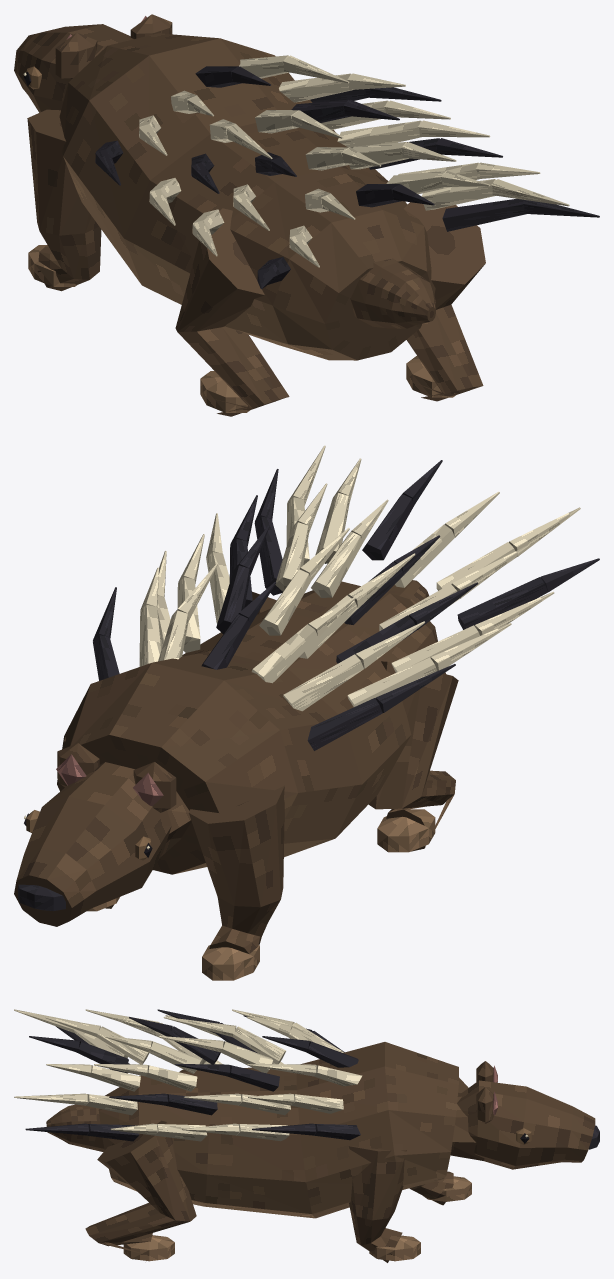
Rendered from mon_porcupine.glb.
The picture shows the model from 3 angles, top to bottom: view 1: azimuth 30°, elevation 25°; view 2: azimuth 150°, elevation 25°; view 3: azimuth 270°, elevation 25°; orthographic projection. The views are drawn at different scales.
Visible parts, largest first — view 1: closed_body; view 2: closed_body; view 3: closed_body.
Part boxes in pixels (x1=…): closed_body: x1=14, y1=14, x2=599, y2=416; closed_body: x1=14, y1=445, x2=599, y2=980; closed_body: x1=14, y1=1009, x2=599, y2=1262.
Bounding box in the file's own units: 0.357 × 0.2891 × 0.7726.
1 material, 1 textured.
